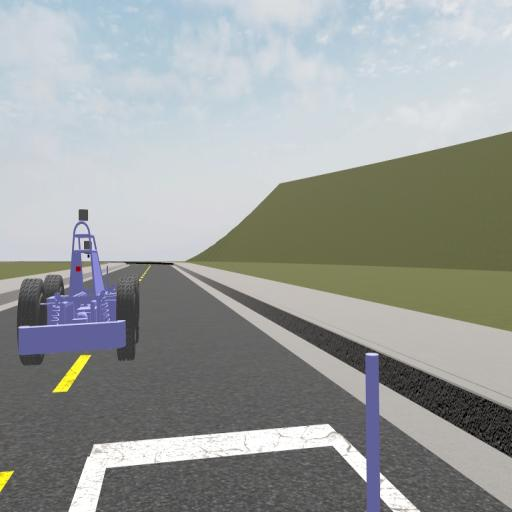ERP-42: (16, 208, 140, 368)
